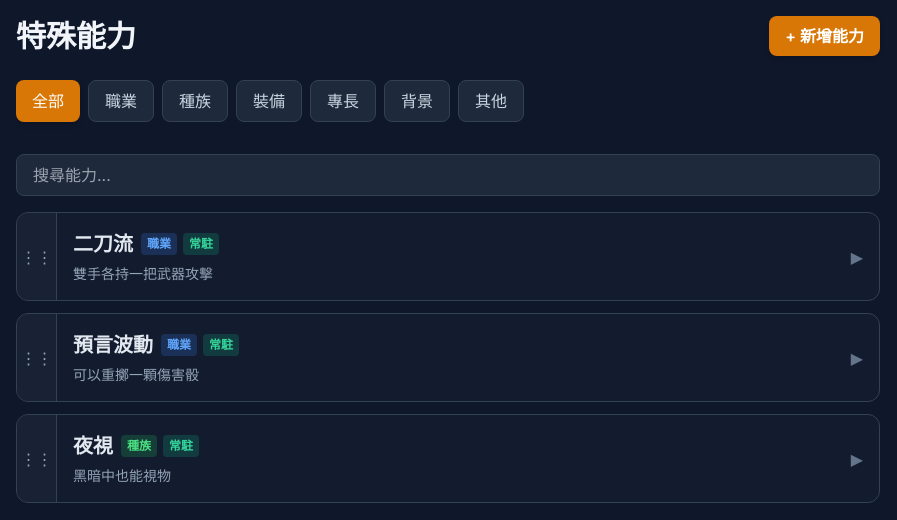
Test: AbilitiesPage - 搜尋列 › 輸入說明文字關鍵字也能篩出符合的能力
Check: the heading "預言波動" is shown, box [73,330,153,360]
Type "傷害骰" into the field with placeholder "搜尋能力..." at (448, 175), box [16,154,880,196]
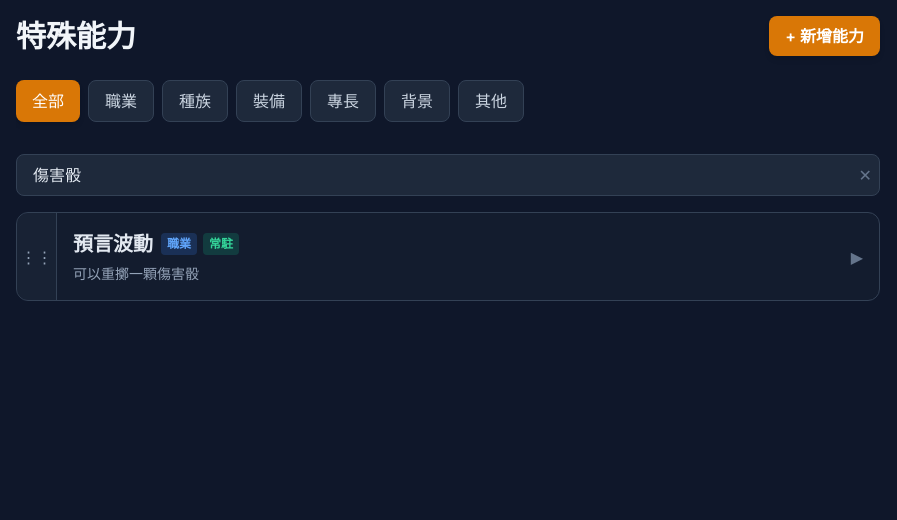
Check: the heading "預言波動" is shown, box [73,229,153,259]
Check: the button "二刀流" is gone
